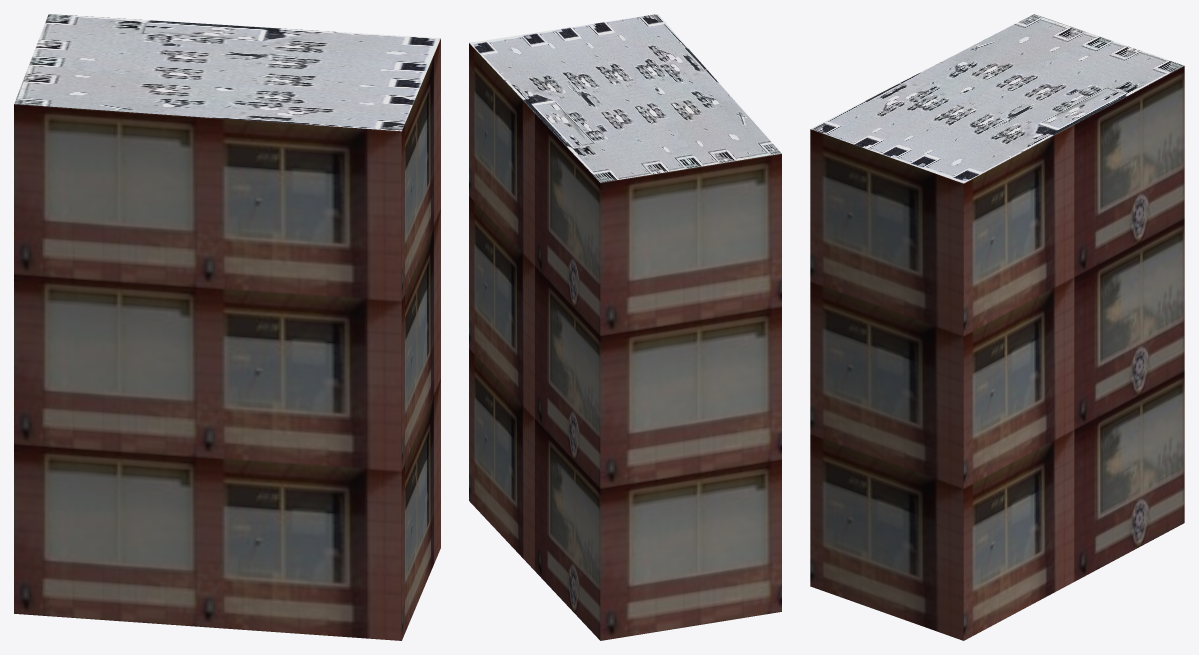
Rendered from ResTex__3252.fbx.
3 renders of one model, left to right at view 1: azimuth 30°, elevation 25°; view 2: azimuth 150°, elevation 25°; view 3: azimuth 270°, elevation 25°, orthographic. The views are drawn at different scales.
Parts seen in each view (by area): view 1: CityEngineMaterial_13_m, CityEngineMaterial_8_m; view 2: CityEngineMaterial_13_m, CityEngineMaterial_8_m; view 3: CityEngineMaterial_13_m, CityEngineMaterial_8_m.
Part boxes in pixels (bbox=[...]): CityEngineMaterial_13_m: bbox=[14, 39, 440, 640]; CityEngineMaterial_8_m: bbox=[14, 14, 440, 131]; CityEngineMaterial_13_m: bbox=[469, 43, 781, 640]; CityEngineMaterial_8_m: bbox=[469, 14, 781, 182]; CityEngineMaterial_13_m: bbox=[810, 66, 1184, 640]; CityEngineMaterial_8_m: bbox=[811, 14, 1183, 183].
Bounding box in the file's own units: 7.16 × 9 × 6.67.
Materials: 2 (2 with a texture image).
